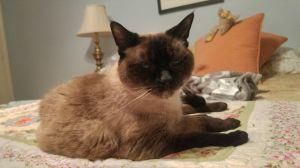siamese: (110, 10, 199, 105)
